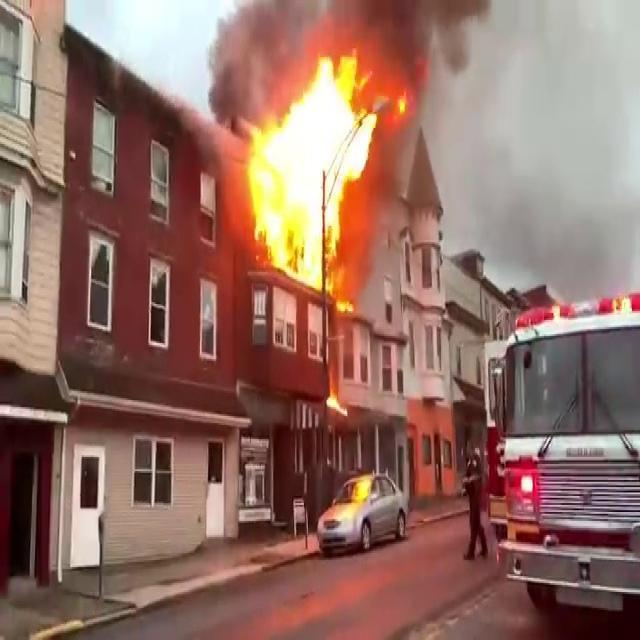Fire: (239, 39, 384, 292)
Smoke: (423, 0, 640, 300)
